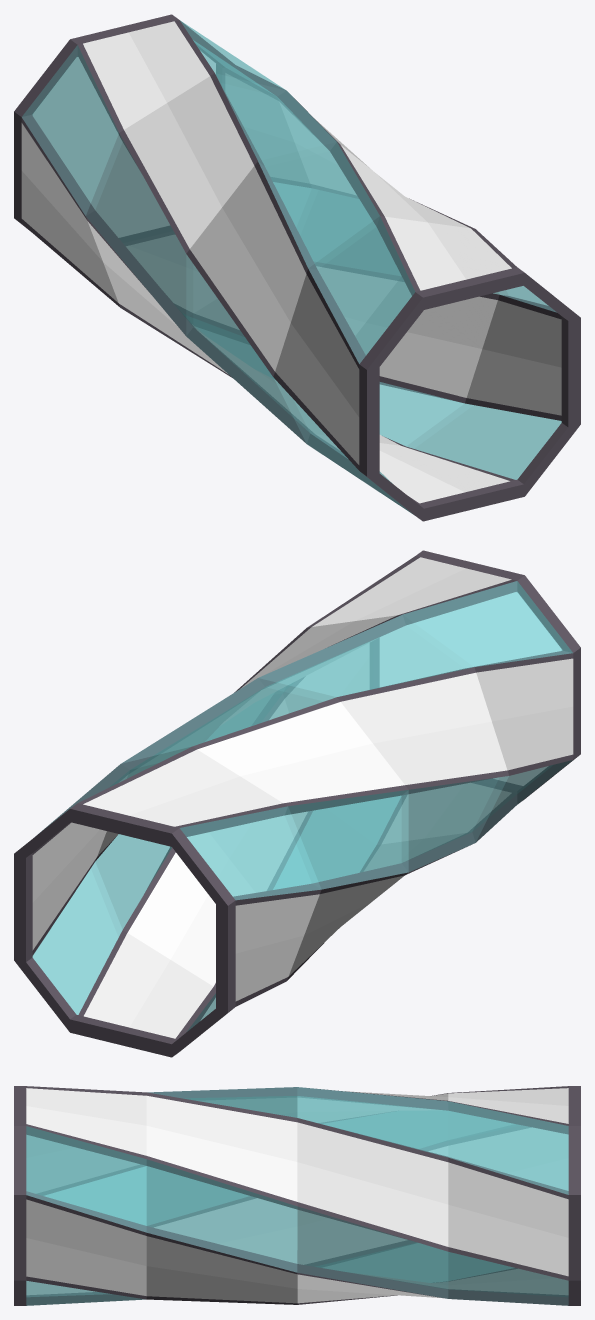
Rendered from TunnelSection09.fbx.
3 renders of one model, top to bottom at view 1: azimuth 30°, elevation 25°; view 2: azimuth 150°, elevation 25°; view 3: azimuth 270°, elevation 25°, orthographic. The views are drawn at different scales.
Parts seen in each view (by area): view 1: TunnelSection09; view 2: TunnelSection09; view 3: TunnelSection09.
Part boxes in pixels (x1,y1,x2,y2): TunnelSection09: (14, 14, 580, 521); TunnelSection09: (14, 550, 580, 1057); TunnelSection09: (14, 1086, 580, 1305).
Size of the model in its own units: 46.31 by 46.31 by 120.
